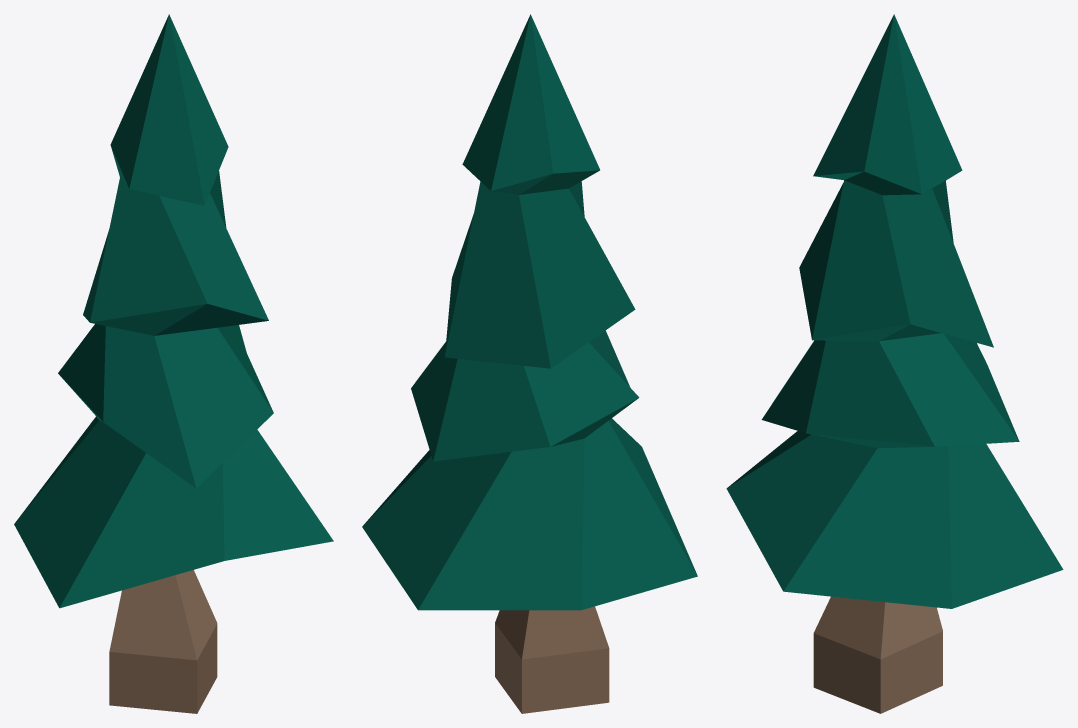
Rendered from Pine_04_Mesh.fbx.
3 views of the same model, side by side, from view 1: azimuth 30°, elevation 25°; view 2: azimuth 150°, elevation 25°; view 3: azimuth 270°, elevation 25° (orthographic).
Parts seen in each view (by area): view 1: Pine_LOD0; view 2: Pine_LOD0; view 3: Pine_LOD0.
Boxes of the visible parts, x1=… form: Pine_LOD0: x1=14, y1=14, x2=333, y2=713; Pine_LOD0: x1=362, y1=14, x2=697, y2=713; Pine_LOD0: x1=726, y1=14, x2=1063, y2=713.
Size of what is drawn, in the model's own units: 12976 by 30118 by 13546.
